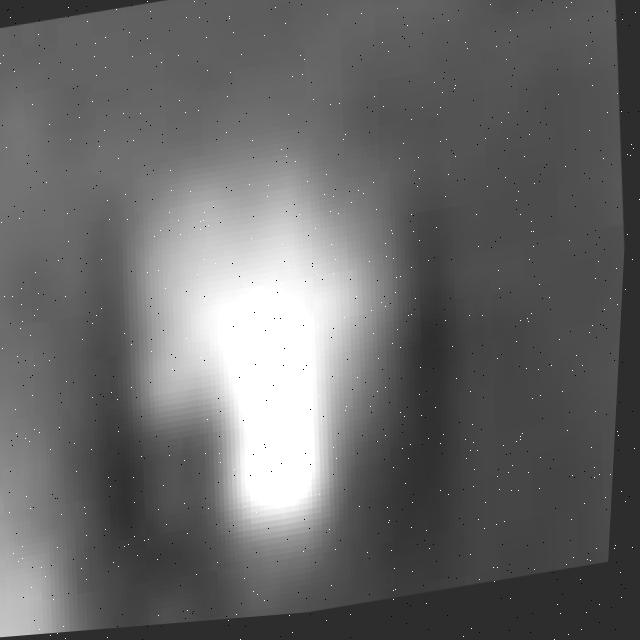person: (104, 97, 399, 626), (1, 232, 164, 640)
